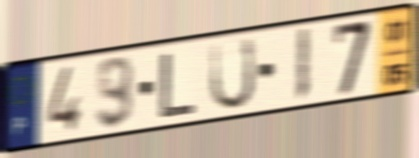4: (46, 63, 85, 136)
7: (331, 18, 372, 98)
9: (94, 54, 135, 132)
I: (293, 25, 312, 105)
L: (157, 50, 199, 122)
U: (208, 34, 257, 114)
